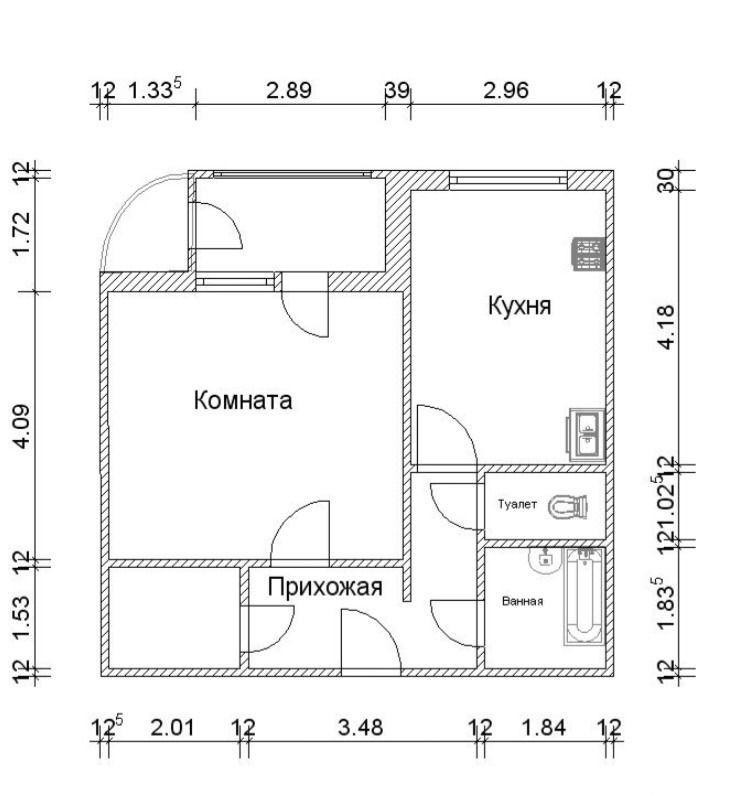balcony: (196, 178, 388, 271)
bathroom: (484, 548, 607, 669)
bedroom: (108, 292, 403, 560)
hallway: (251, 473, 478, 669)
kitchen: (409, 191, 608, 464)
toilet: (486, 471, 606, 541)
walk_in_closet: (108, 569, 240, 669)
